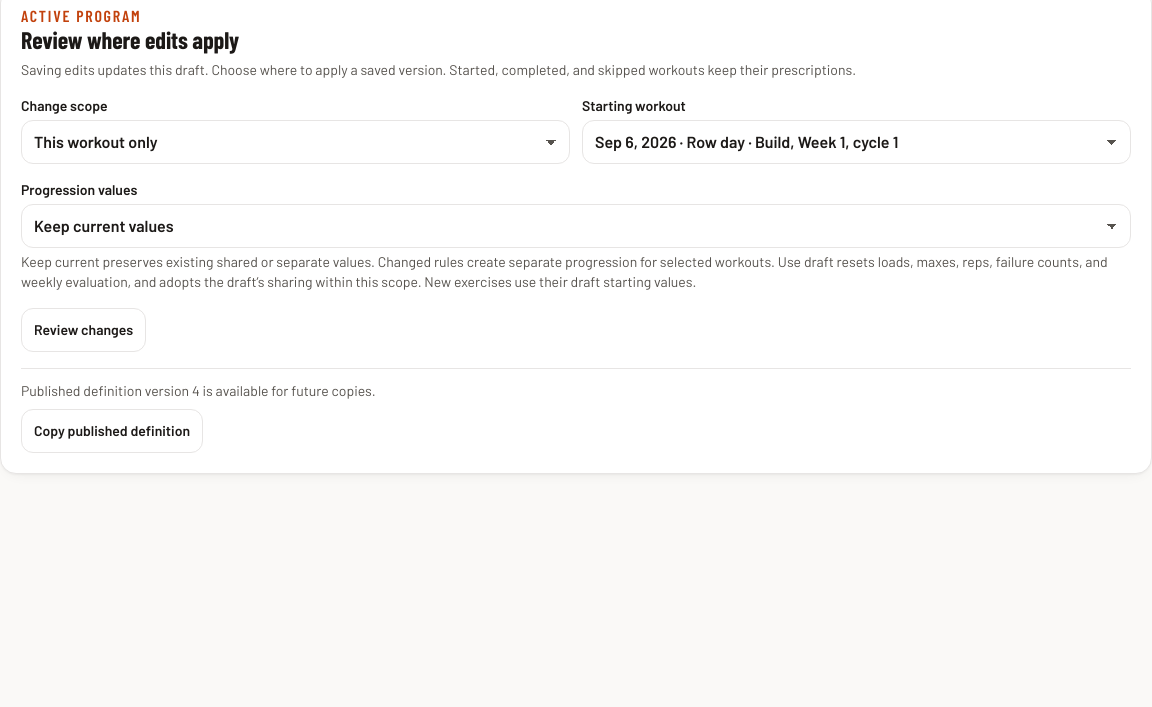
active program change review and recovery › requires a new review when the draft changed after preview
The width and height of the screenshot is (1152, 707).
Click the button "Review changes" at (84, 330), box [21, 308, 146, 352]
(page scrolled)
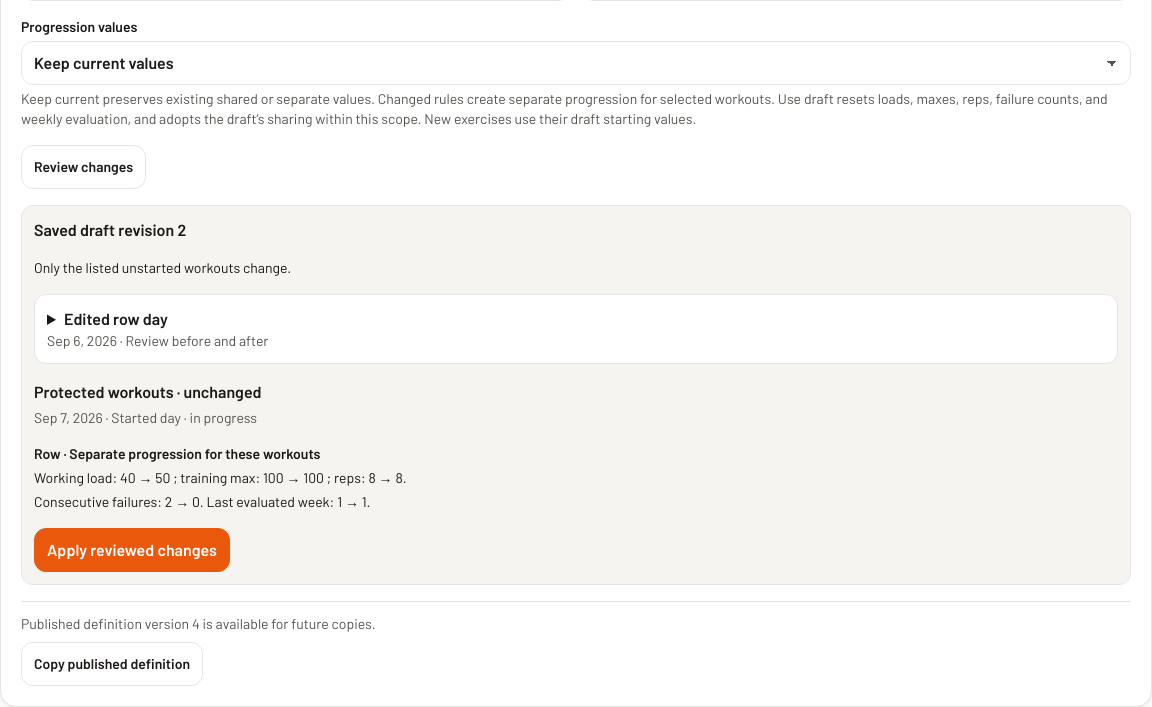
Expected: the button "Apply reviewed changes" is shown
Click the button "Apply reviewed changes" at (132, 550), box [34, 528, 230, 572]
(page scrolled)
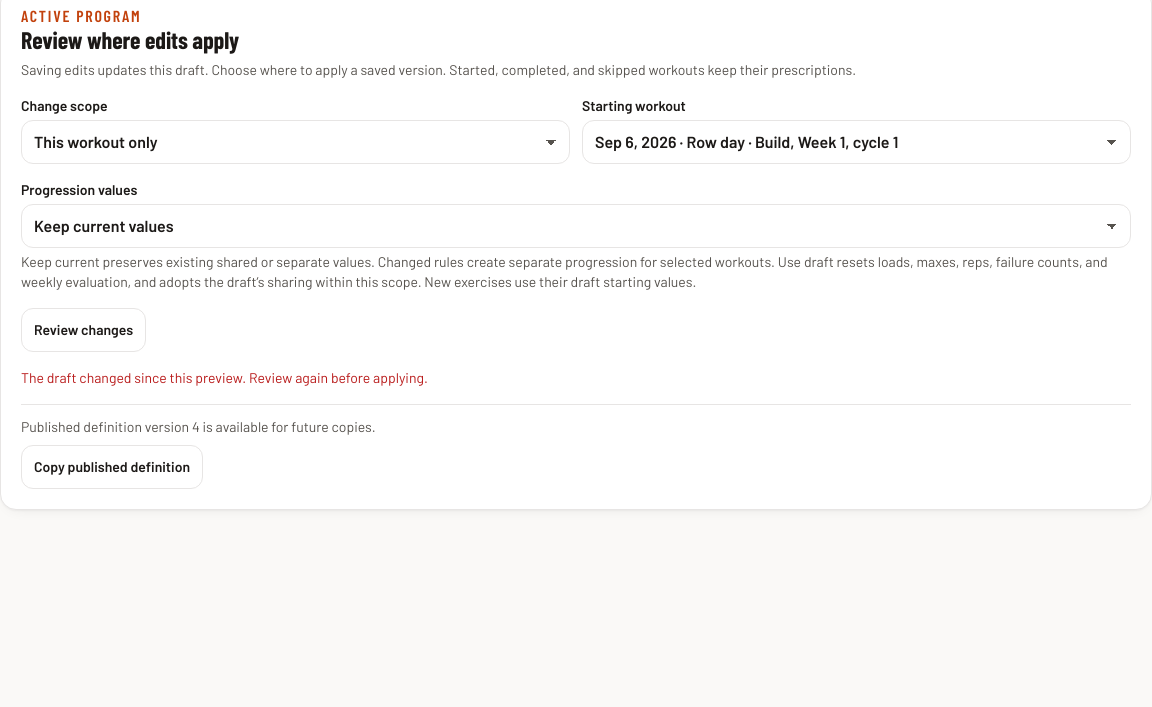
Expected: the text "The draft changed since this preview. Review again before applying." is shown, [21, 369, 428, 386]
Expected: the button "Apply reviewed changes" is gone
